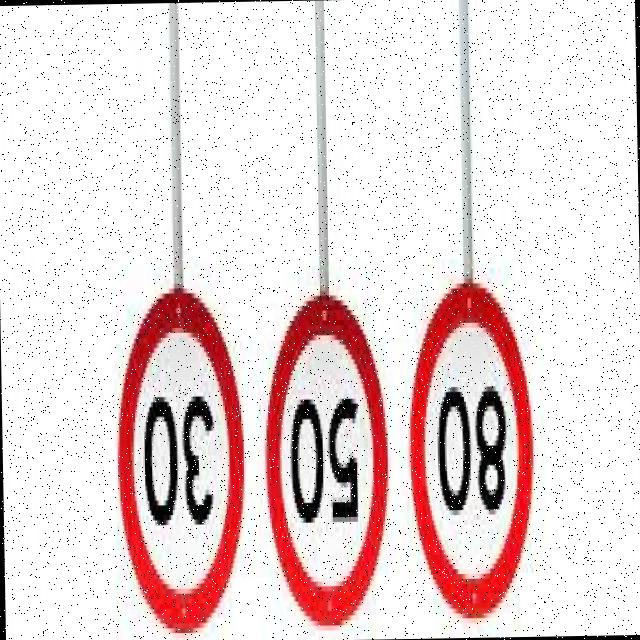speed_limit_30: (111, 281, 250, 640)
speed_limit_50: (260, 289, 394, 640)
speed_limit_80: (408, 277, 540, 638)
